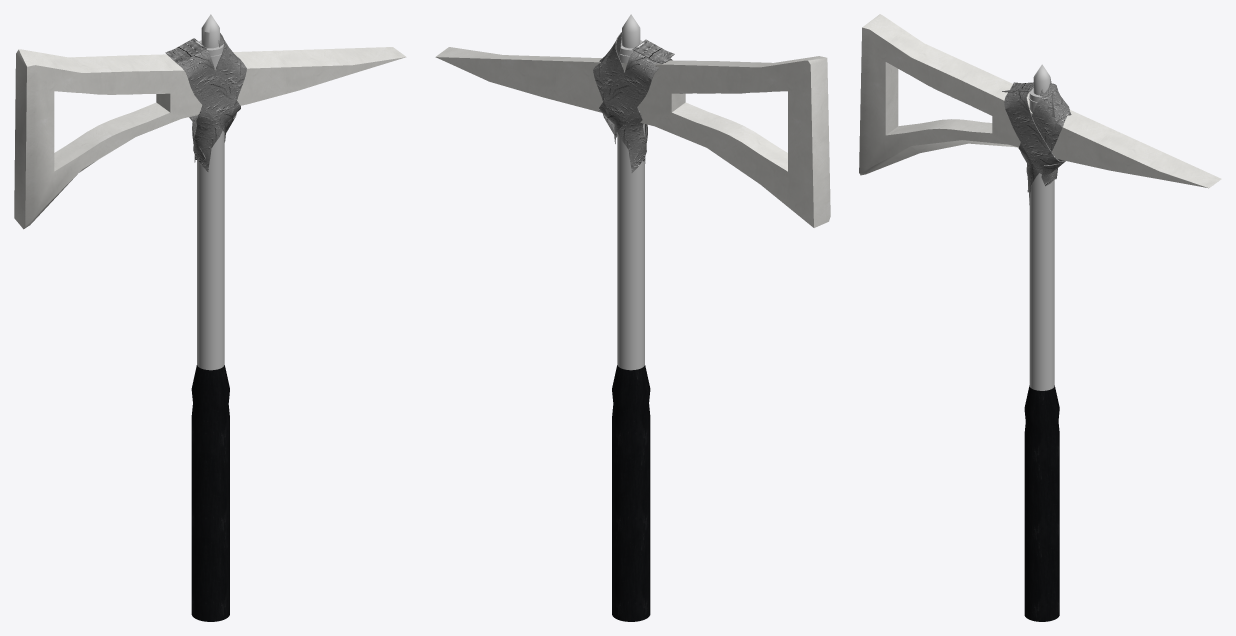
Rendered from Axe.fbx.
3 renders of one model, left to right at view 1: azimuth 30°, elevation 25°; view 2: azimuth 150°, elevation 25°; view 3: azimuth 330°, elevation 25°, orthographic. The views are drawn at different scales.
Parts seen in each view (by area): view 1: Axe; view 2: Axe; view 3: Axe.
Part boxes in pixels (<box>): Axe: <box>14,14,406,621</box>; Axe: <box>435,14,830,621</box>; Axe: <box>859,14,1221,621</box>.
Size of the model in its own units: 159 by 240 by 16.46.
